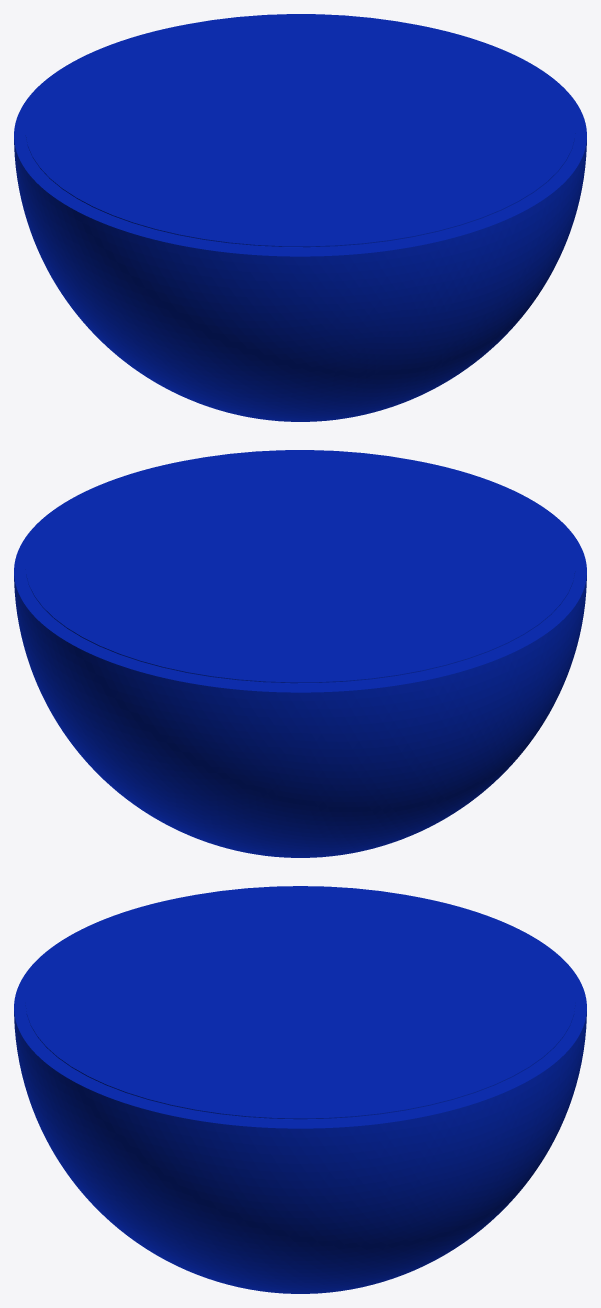
File: CV_Heart_color_2.glb
The picture shows the model from 3 angles, top to bottom: view 1: azimuth 30°, elevation 25°; view 2: azimuth 150°, elevation 25°; view 3: azimuth 270°, elevation 25°; orthographic projection.
Visible parts, largest first — view 1: Plane, Icosphere; view 2: Plane, Icosphere; view 3: Plane, Icosphere.
Part boxes in pixels (bbox=[...]): Plane: bbox=[25, 14, 575, 247]; Icosphere: bbox=[14, 24, 586, 421]; Plane: bbox=[25, 450, 575, 683]; Icosphere: bbox=[14, 460, 586, 857]; Plane: bbox=[25, 886, 575, 1119]; Icosphere: bbox=[14, 896, 586, 1293].
Bounding box in the file's own units: 12 × 6.12 × 12.
